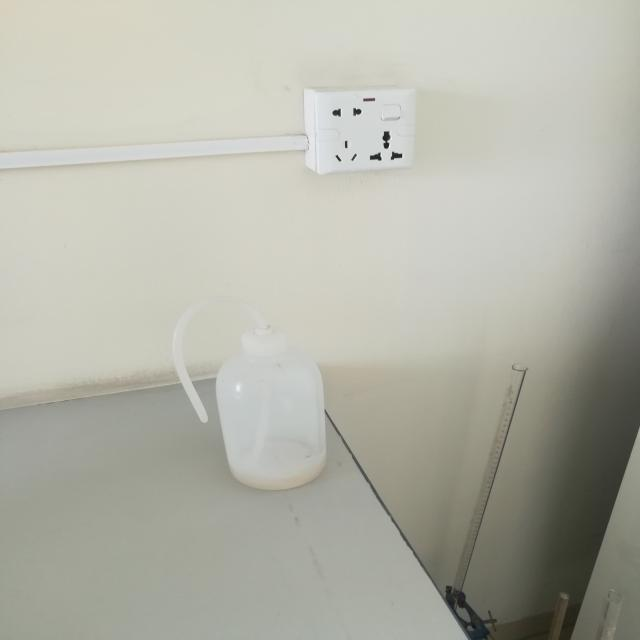Wash_Bottle: (127, 273, 363, 515)
